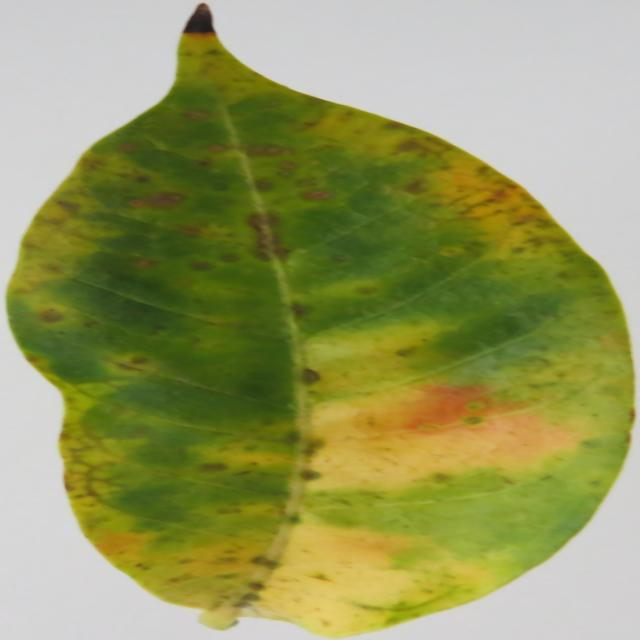DeficienciaNutricional-Fosforo: (8, 6, 632, 636)
